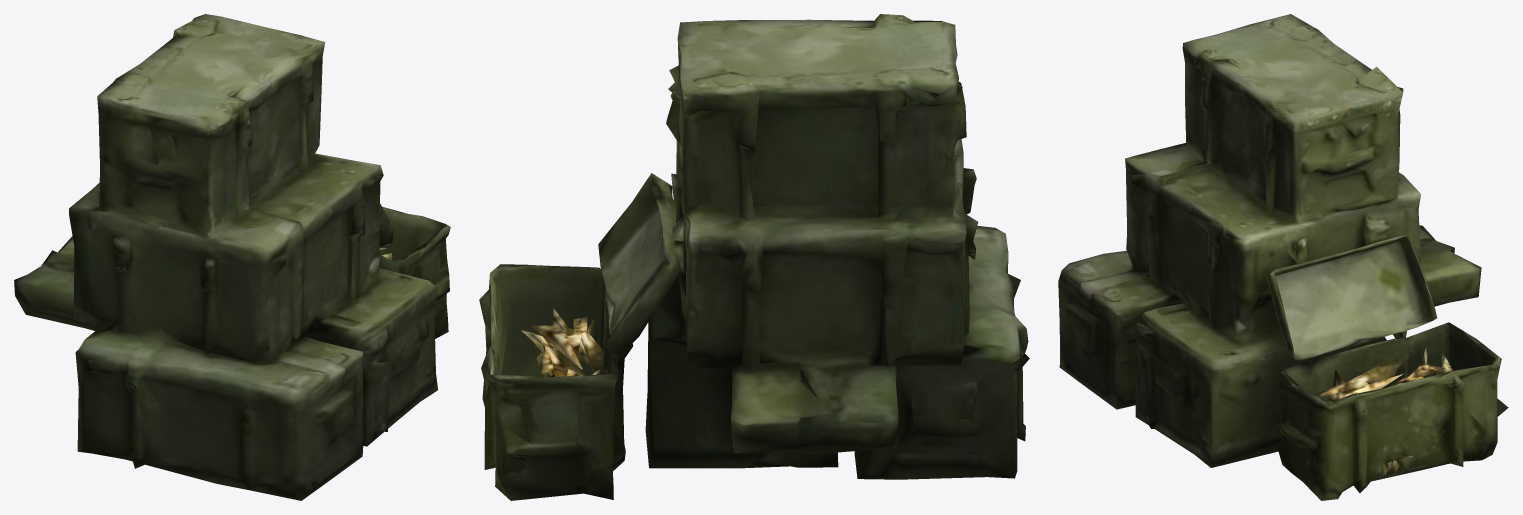
Rendered from xd_ammo.glb.
3 renders of one model, left to right at view 1: azimuth 30°, elevation 25°; view 2: azimuth 150°, elevation 25°; view 3: azimuth 270°, elevation 25°, orthographic. The views are drawn at different scales.
Visible parts, largest first — view 1: tripo_node_93c27782-9982-496d-9bca-abfb82c51c88; view 2: tripo_node_93c27782-9982-496d-9bca-abfb82c51c88; view 3: tripo_node_93c27782-9982-496d-9bca-abfb82c51c88.
Boxes of the visible parts, box(x1,y1,x2,y2) form: tripo_node_93c27782-9982-496d-9bca-abfb82c51c88: box(14, 14, 450, 500); tripo_node_93c27782-9982-496d-9bca-abfb82c51c88: box(479, 14, 1029, 500); tripo_node_93c27782-9982-496d-9bca-abfb82c51c88: box(1058, 14, 1508, 500).
Size of the model in its own units: 0.9873 by 0.7913 by 1.
Materials: 1 (1 with a texture image).
